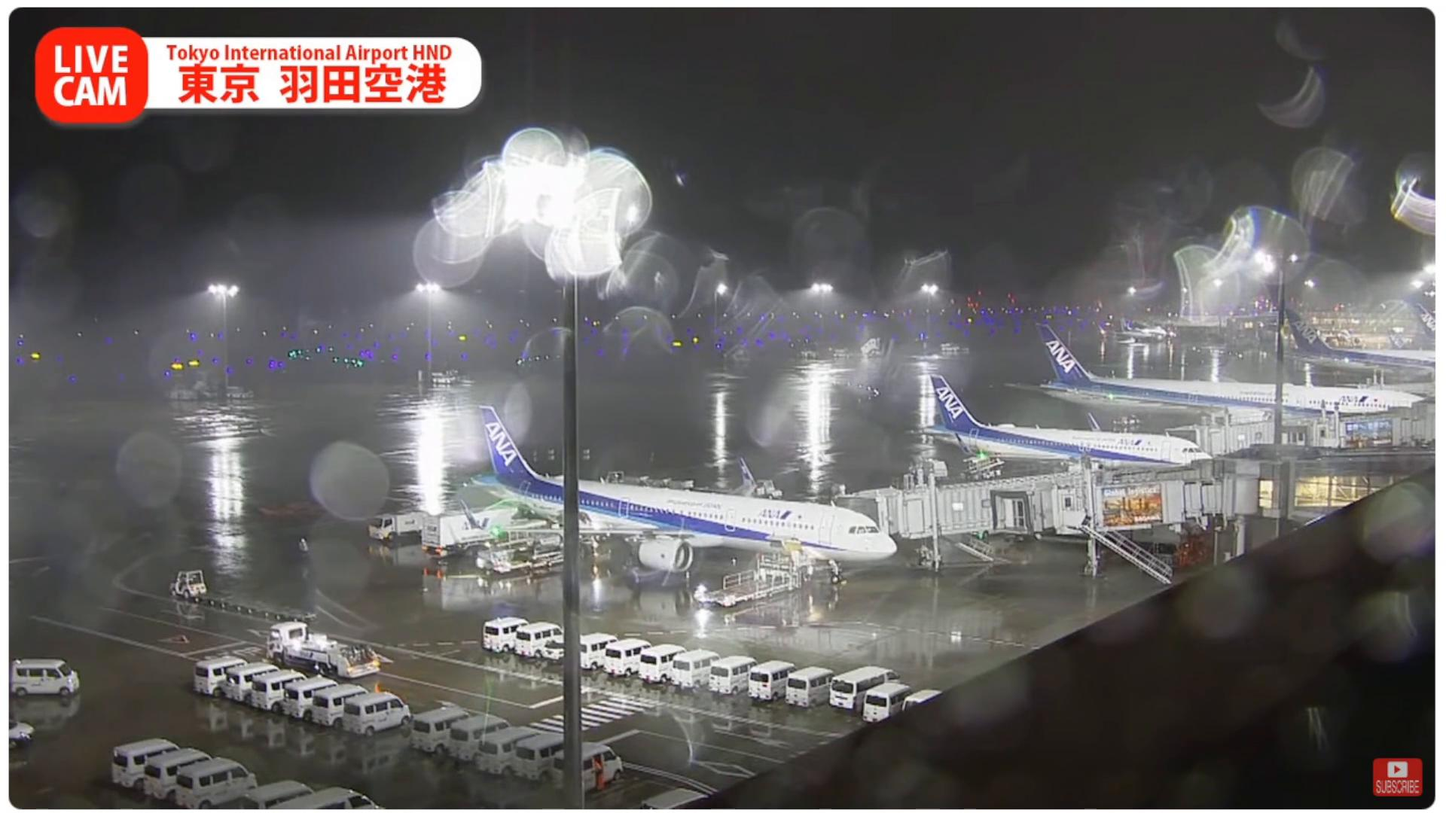Aerobridge: (839, 461, 1195, 539), (988, 472, 1227, 537)
Airplane: (461, 406, 899, 585)
Baggage truck: (366, 506, 427, 539)
Catering: (421, 504, 541, 558)
Dolly: (189, 591, 322, 625), (616, 475, 738, 492)
JCPL: (690, 534, 822, 615), (479, 545, 564, 575)
Skyloader: (487, 520, 568, 557)
Tractor: (168, 568, 208, 600), (753, 480, 779, 497)
Window: (1291, 475, 1415, 508)
